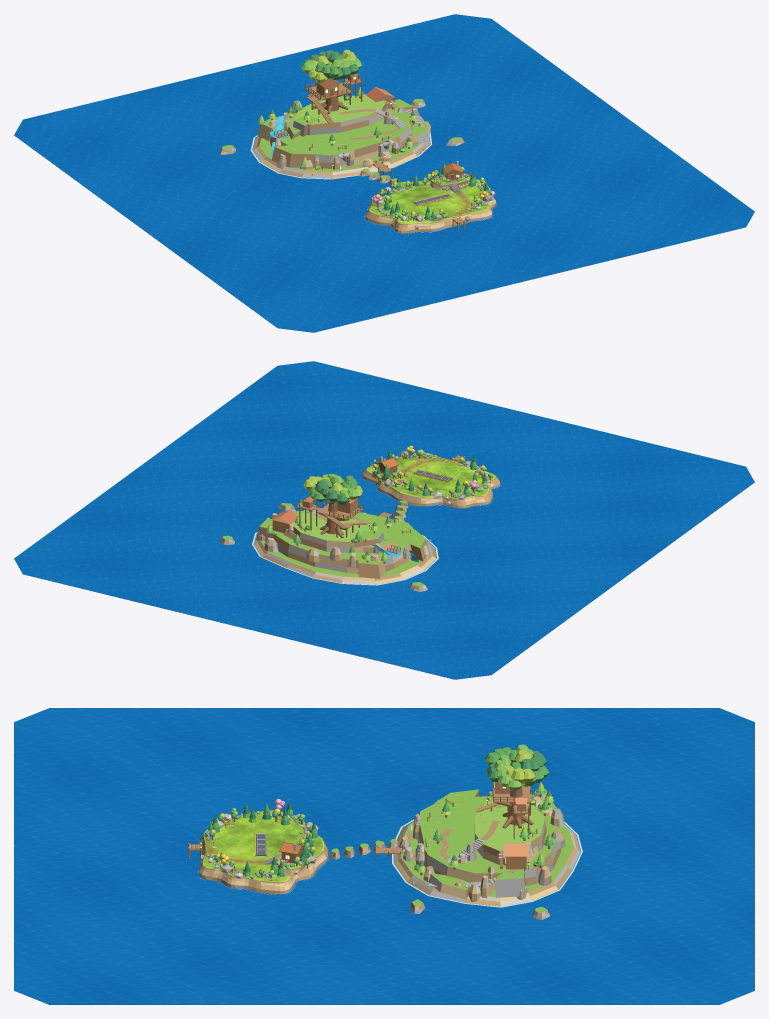
The model's file is PersonalIsland.glb.
3 views of the same model, one above another, from view 1: azimuth 30°, elevation 25°; view 2: azimuth 150°, elevation 25°; view 3: azimuth 270°, elevation 25° (orthographic). The views are drawn at different scales.
Visible parts, largest first — view 1: Ocean blue ground plane, MESA TIER 2 | cliff shell with two genuine cave openings, Single flat grassy walkable top, MESA TIER 3 | offset treehouse highland, MESA TIER 1 | irregular solid shoreline and cave floor, CLIFF SHELF 00 | separate protruding rocky terrace; view 2: Ocean blue ground plane, MESA TIER 2 | cliff shell with two genuine cave openings, Single flat grassy walkable top, MESA TIER 1 | irregular solid shoreline and cave floor, MESA TIER 3 | offset treehouse highland, Middle ochre cliff faceted tiers; view 3: Ocean blue ground plane, MESA TIER 2 | cliff shell with two genuine cave openings, Single flat grassy walkable top, MESA TIER 1 | irregular solid shoreline and cave floor, MESA TIER 3 | offset treehouse highland, Middle ochre cliff faceted tiers, CLIFF SHELF 03 | separate protruding rocky terrace, CLIFF SHELF 02 | separate protruding rocky terrace, SHORE | independent foamy contour around main island, Lower exposed angular rock | modular terrain, Upper soil face and ledges.
Boxes of the visible parts, x1,y1,x2,y2 form: Ocean blue ground plane: (14, 14, 754, 332); MESA TIER 2 | cliff shell with two genuine cave openings: (269, 106, 412, 168); Single flat grassy walkable top: (370, 180, 490, 223); MESA TIER 3 | offset treehouse highland: (294, 95, 387, 135); MESA TIER 1 | irregular solid shoreline and cave floor: (252, 136, 430, 178); CLIFF SHELF 00 | separate protruding rocky terrace: (272, 145, 314, 168); Ocean blue ground plane: (14, 361, 754, 679); MESA TIER 2 | cliff shell with two genuine cave openings: (272, 509, 414, 573); Single flat grassy walkable top: (367, 453, 494, 498); MESA TIER 1 | irregular solid shoreline and cave floor: (254, 533, 436, 584); MESA TIER 3 | offset treehouse highland: (291, 512, 378, 552); Middle ochre cliff faceted tiers: (362, 471, 499, 505); Ocean blue ground plane: (14, 708, 754, 1004); MESA TIER 2 | cliff shell with two genuine cave openings: (417, 796, 561, 890); Single flat grassy walkable top: (203, 810, 322, 881); MESA TIER 1 | irregular solid shoreline and cave floor: (394, 821, 580, 906); MESA TIER 3 | offset treehouse highland: (474, 800, 546, 864); Middle ochre cliff faceted tiers: (199, 825, 327, 890); CLIFF SHELF 03 | separate protruding rocky terrace: (495, 869, 525, 897); CLIFF SHELF 02 | separate protruding rocky terrace: (428, 873, 470, 899); SHORE | independent foamy contour around main island: (392, 819, 582, 907); Lower exposed angular rock | modular terrain: (199, 841, 328, 894); Upper soil face and ledges: (201, 823, 325, 886).
Size of the model in its own units: 170 by 26.86 by 180.
Materials: 98 (2 with a texture image).
